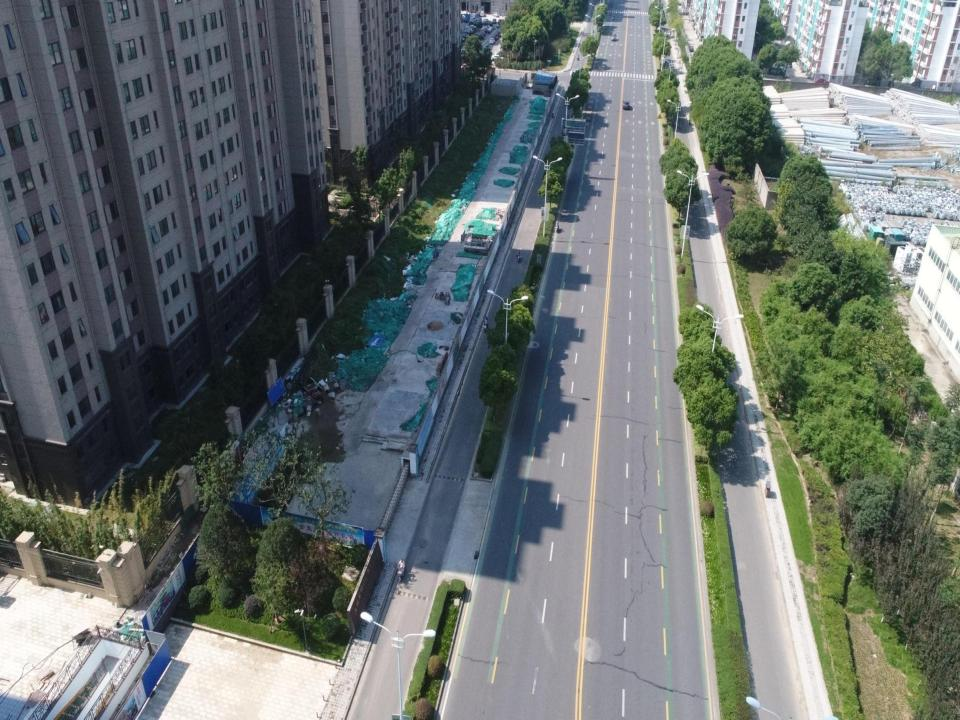car: (623, 100, 631, 111), (483, 43, 490, 51), (611, 32, 617, 41), (492, 12, 500, 18), (489, 38, 494, 44), (480, 11, 484, 15)
